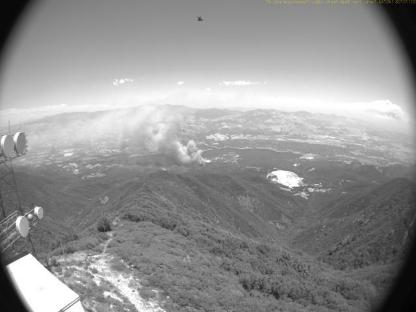smoke: (54, 95, 216, 165)
